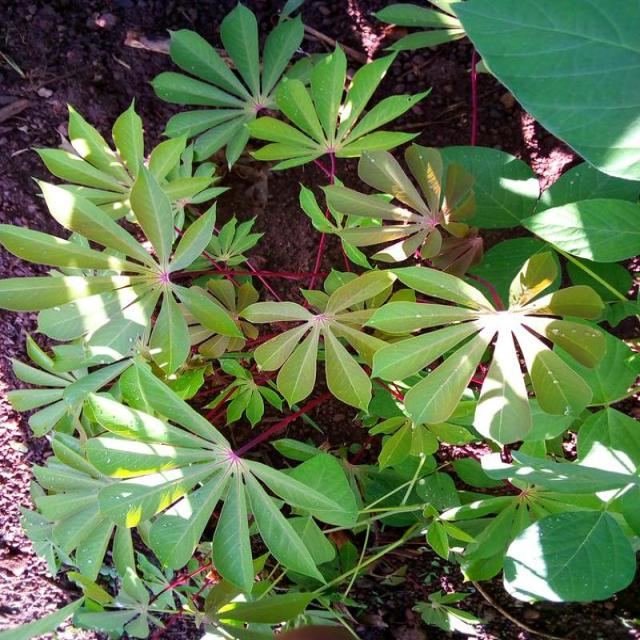cassava leaf: (1, 1, 638, 633), (81, 353, 358, 597)
